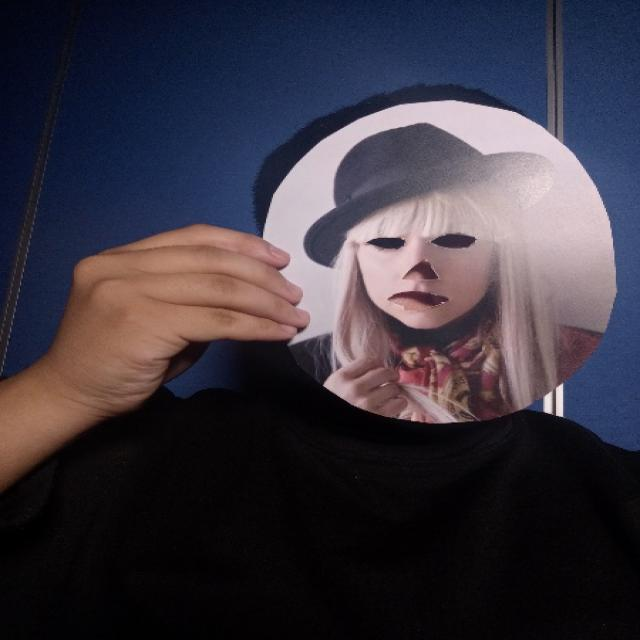mask: (254, 100, 622, 429)
